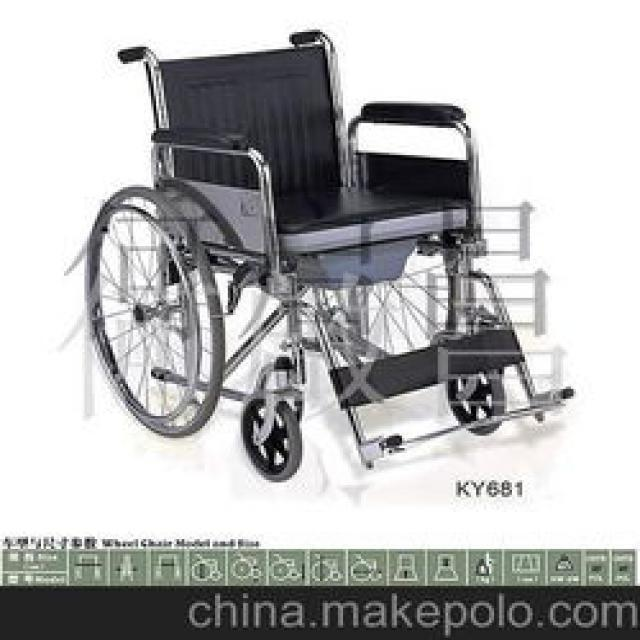wheelchairs: (86, 34, 572, 481)
